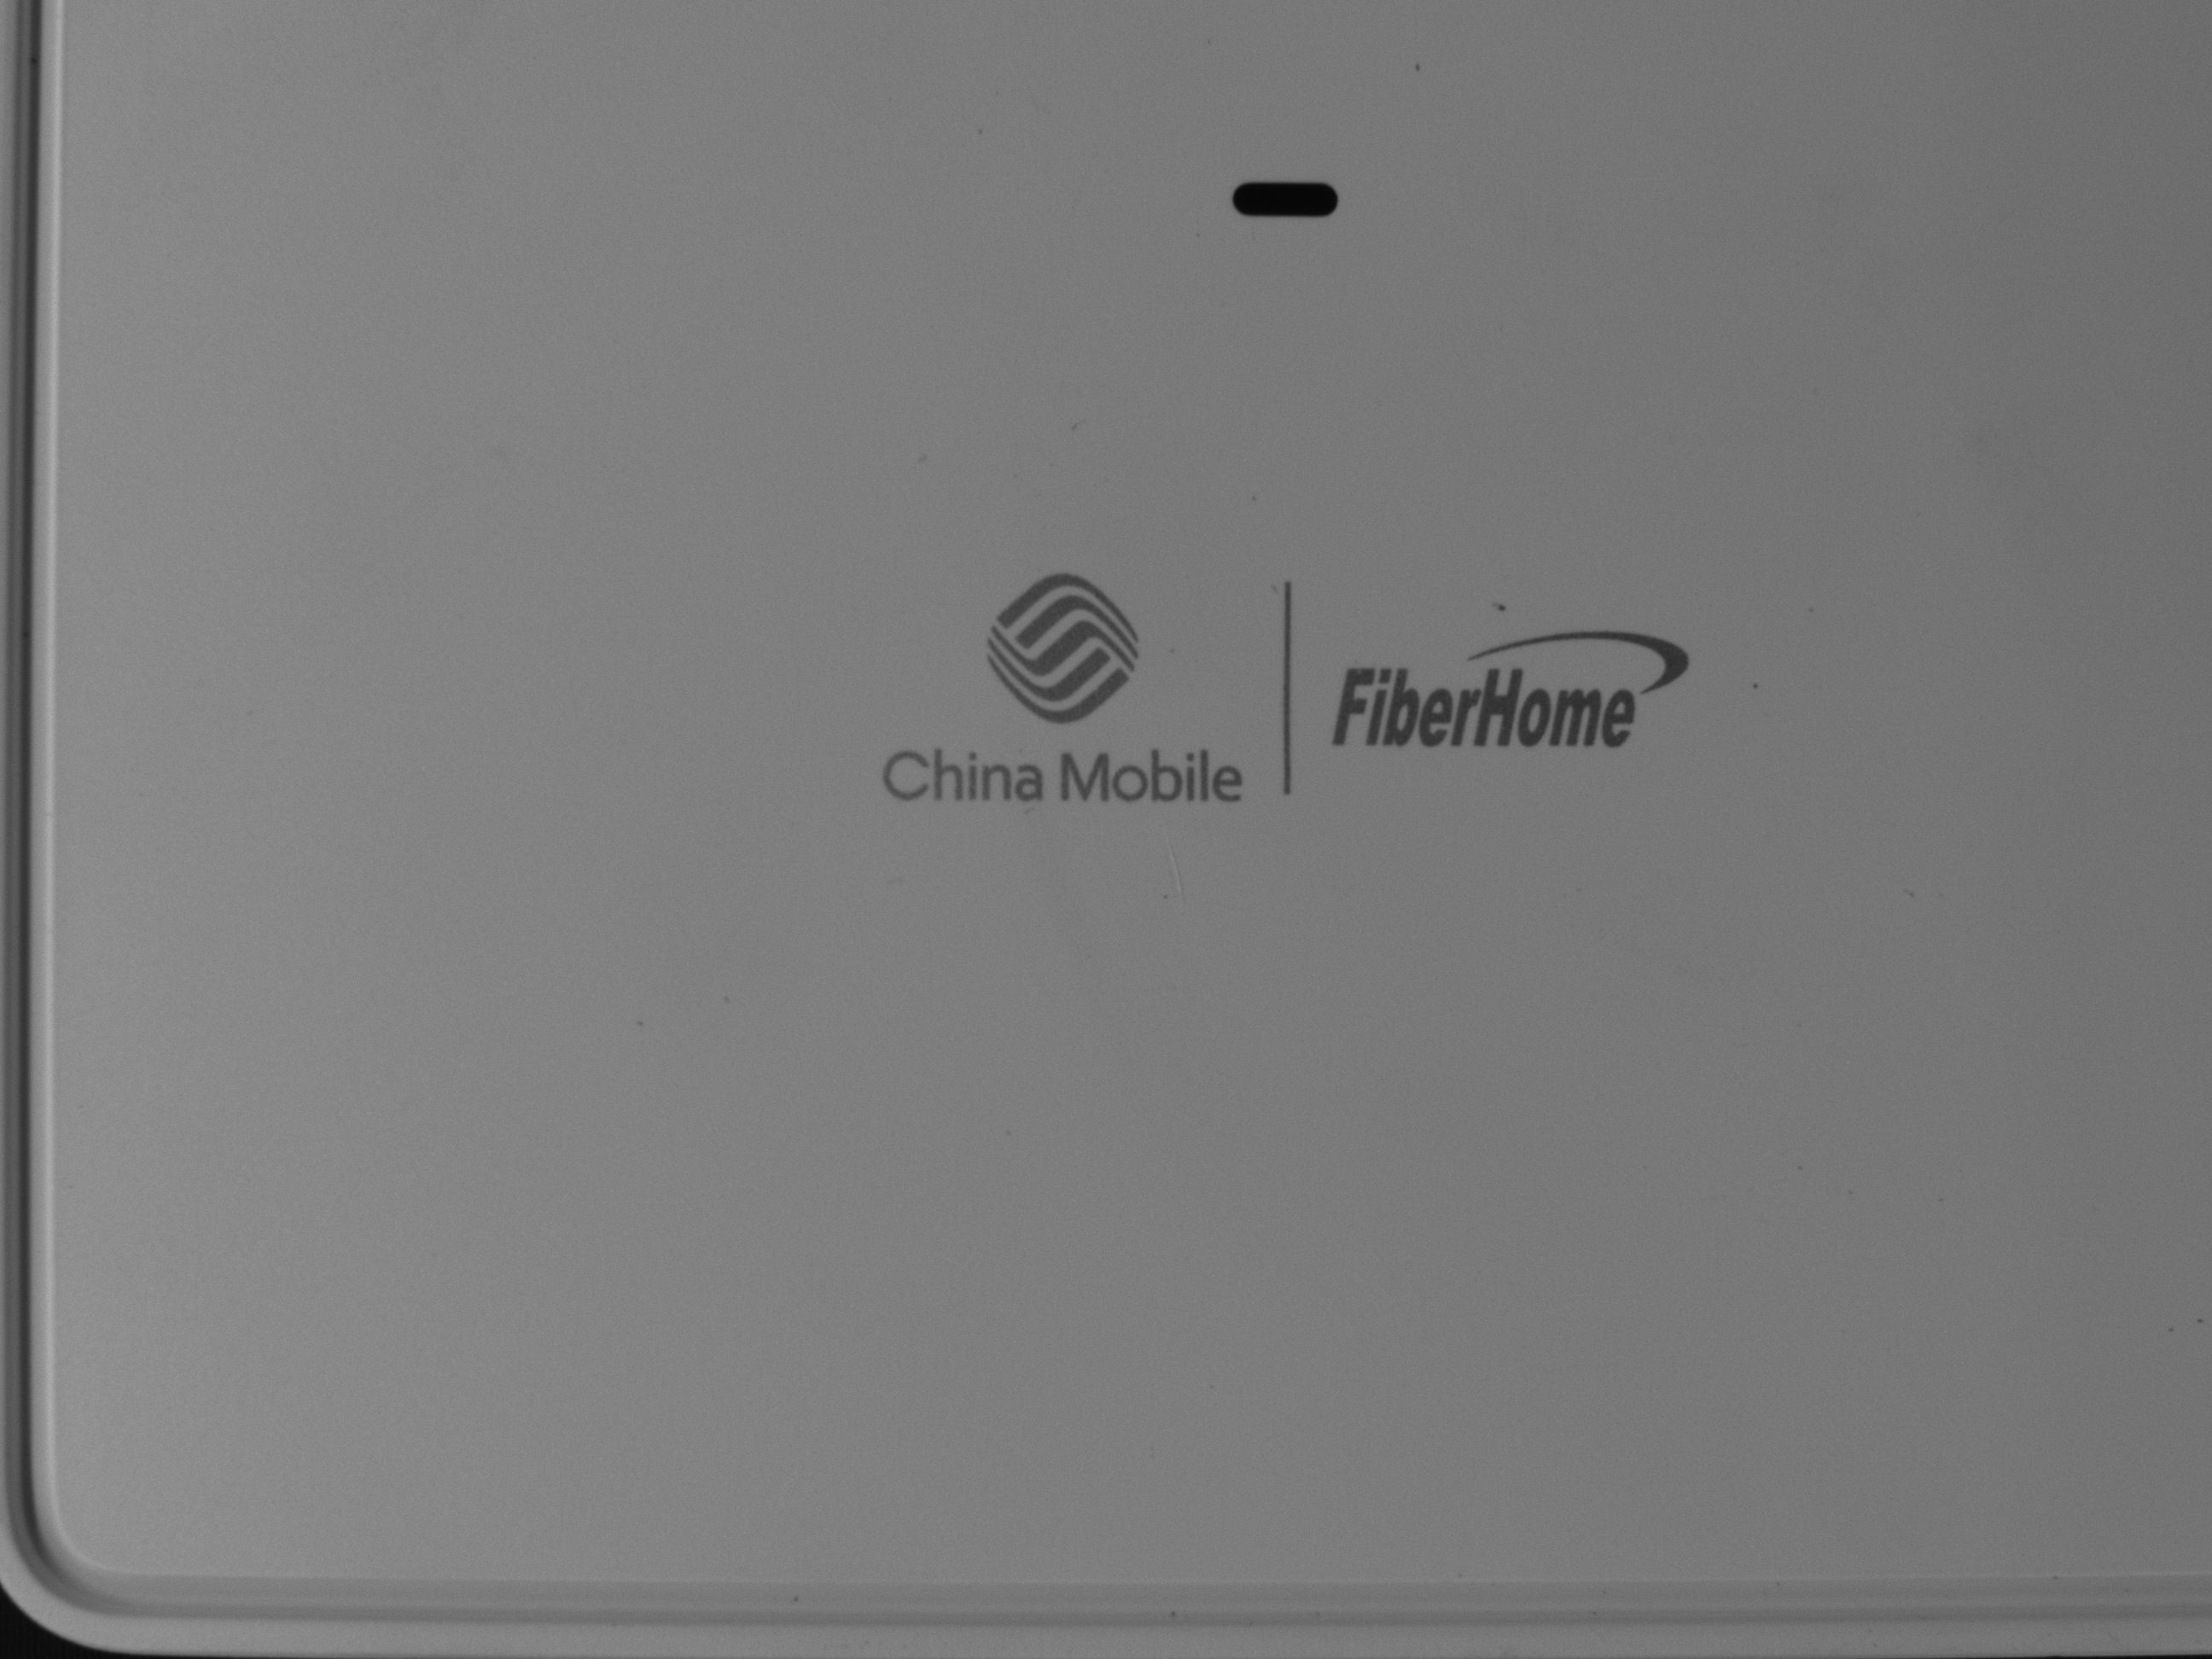BX_HG6371FMobileFiberhome: (846, 549, 1696, 812)
